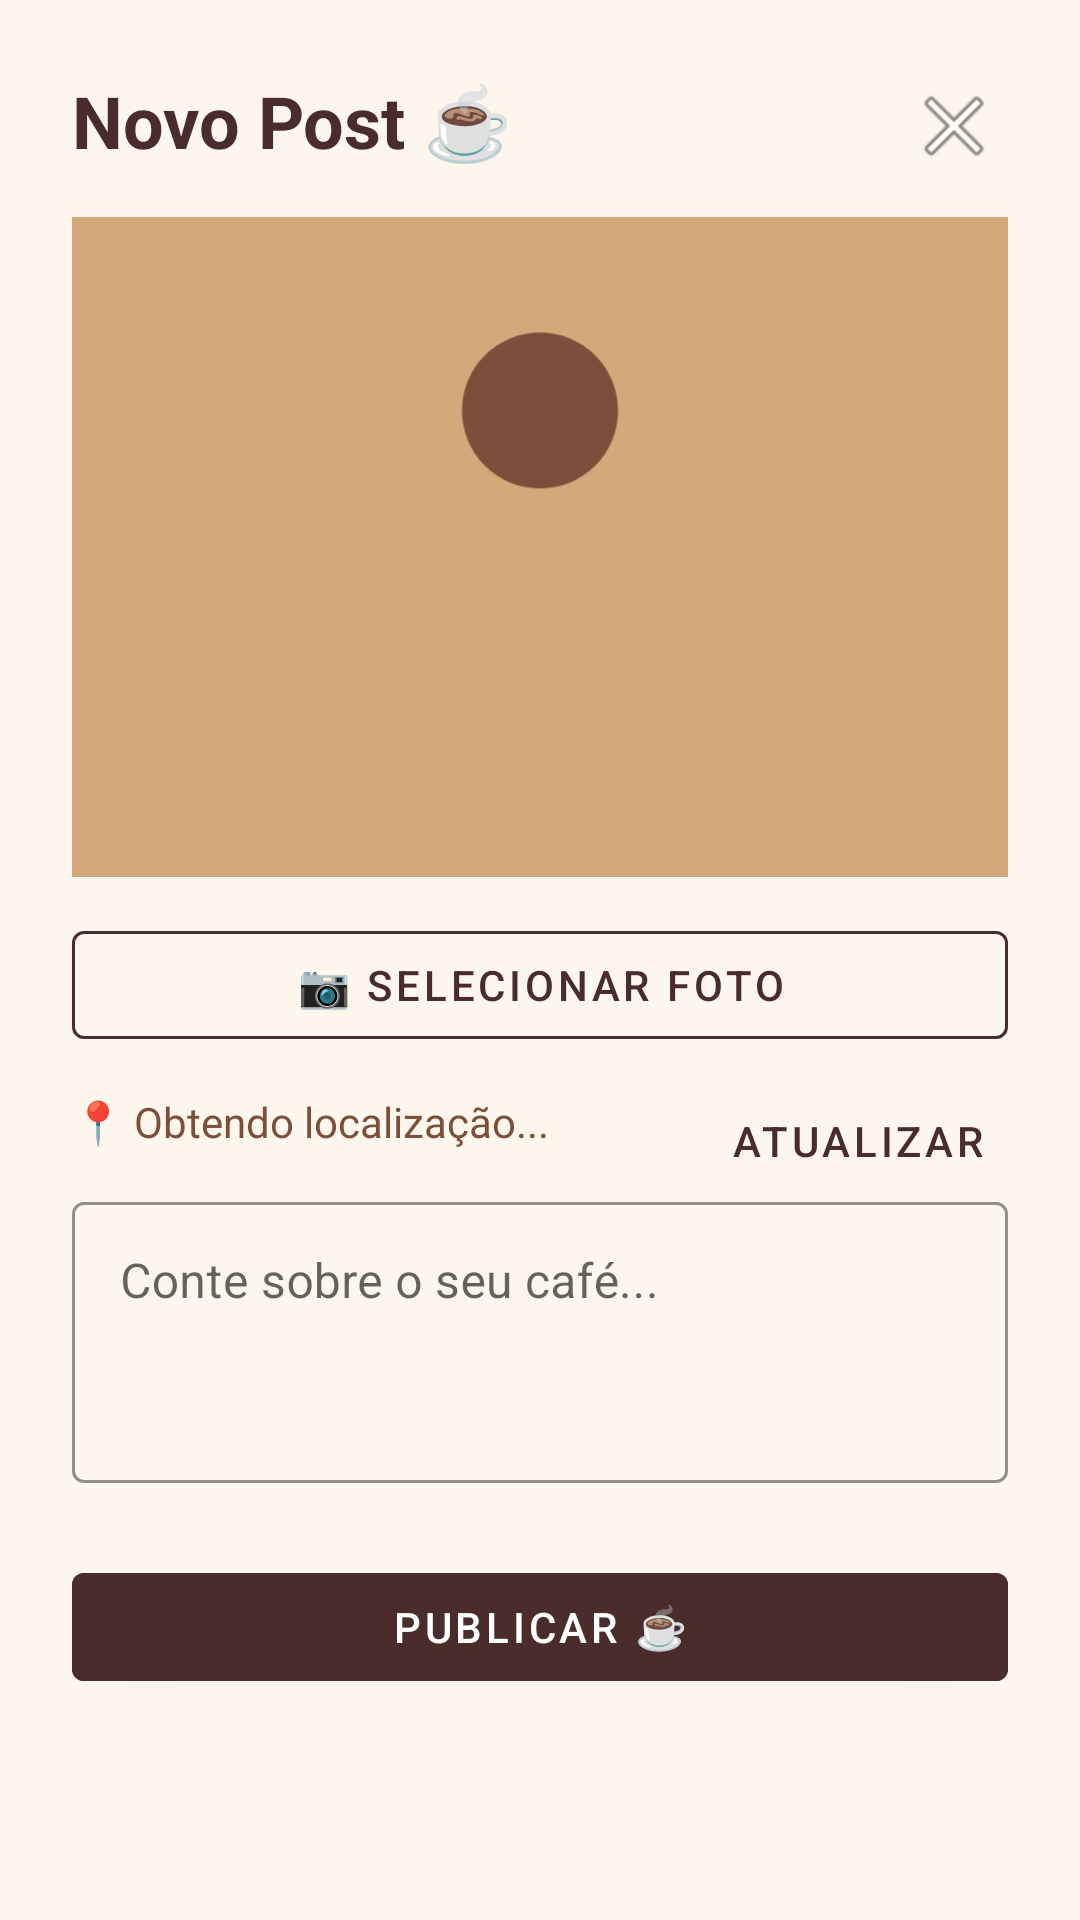

Icon bounding boxes for this 1080w x 1920h phone screenshot, format (x1, y1, x2, y2):
close clear cancel: (924, 96, 984, 156)
